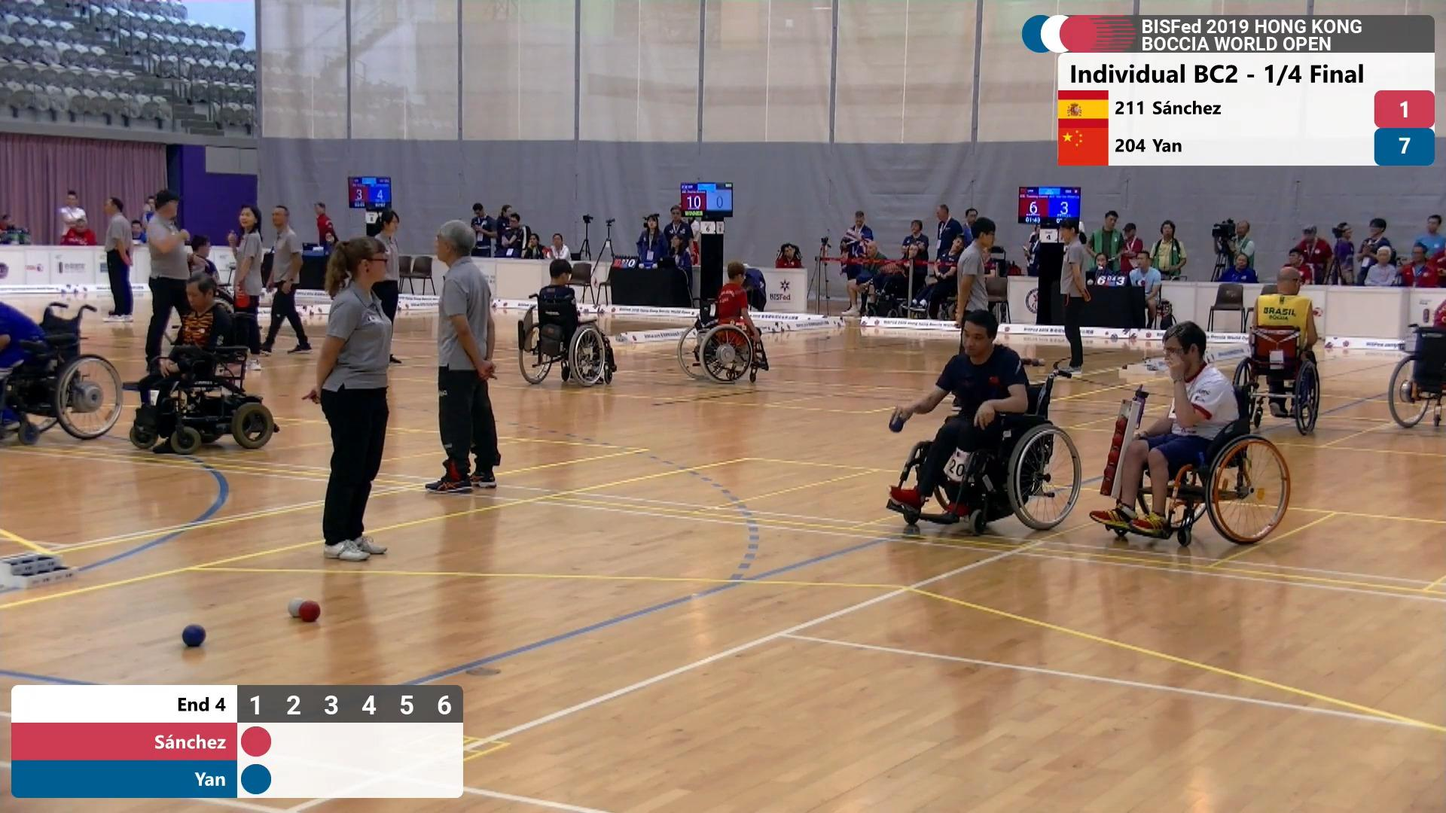blue_ball: (180, 621, 208, 650)
red_ball: (298, 599, 322, 624)
white_ball: (285, 597, 308, 620)
